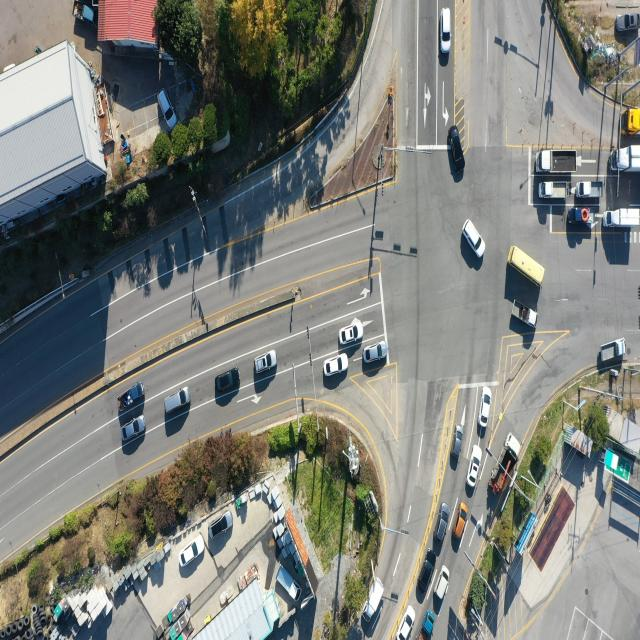car: (462, 220, 485, 259), (450, 501, 468, 543), (448, 126, 464, 173), (166, 385, 192, 413), (160, 88, 178, 128), (179, 538, 202, 568), (398, 605, 417, 640), (418, 554, 435, 593), (466, 445, 482, 486), (213, 369, 239, 394), (339, 320, 364, 345), (210, 513, 233, 540), (449, 424, 462, 469), (256, 355, 279, 379), (326, 355, 351, 377), (124, 416, 146, 441), (364, 342, 389, 364), (438, 503, 452, 542), (436, 564, 450, 600), (442, 8, 453, 53), (480, 388, 492, 428), (616, 12, 640, 31)
medium_truck: (488, 437, 522, 501), (540, 148, 580, 174), (614, 142, 640, 173), (605, 207, 640, 228), (621, 108, 640, 136)
small_bus: (508, 245, 544, 287)
small_truck: (116, 378, 144, 418), (362, 577, 384, 623), (275, 564, 299, 600), (510, 302, 538, 330), (72, 2, 98, 28), (576, 180, 604, 200), (540, 184, 570, 202), (568, 206, 595, 226), (420, 608, 436, 636)
